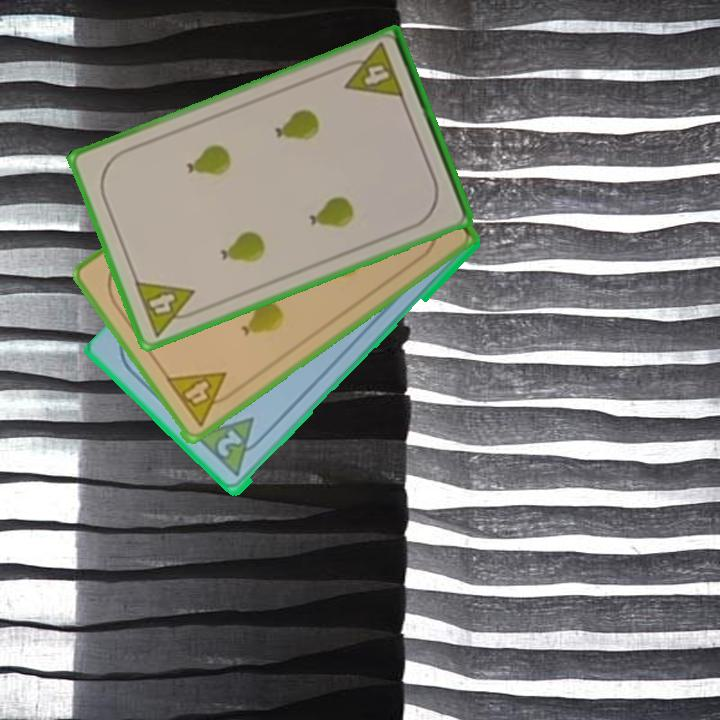2p: (213, 426, 245, 461)
4p: (162, 368, 240, 430), (131, 277, 205, 339), (335, 40, 407, 102)
